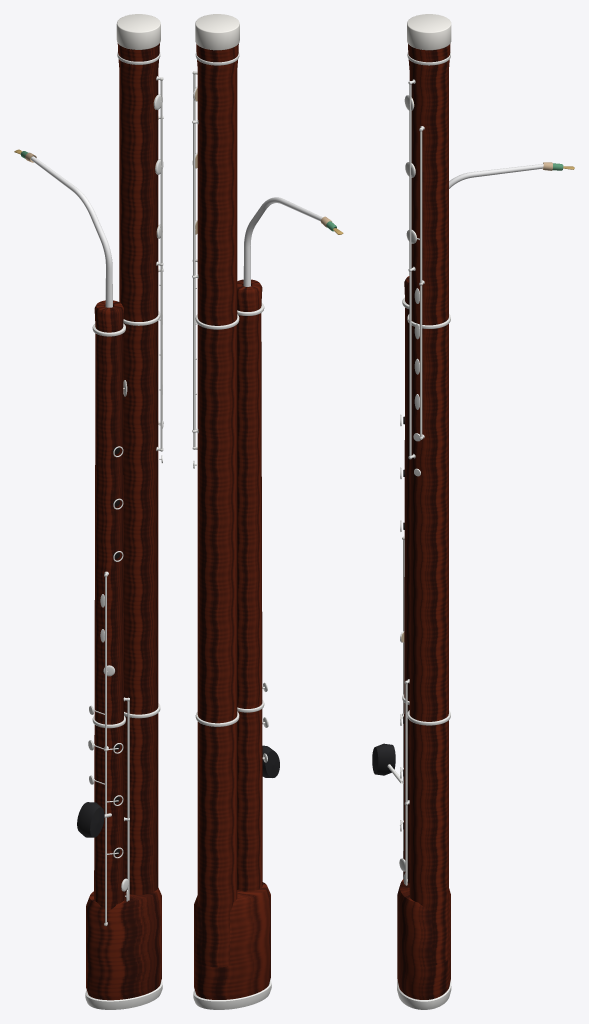
Rendered from bassoon.glb.
3 renders of one model, left to right at view 1: azimuth 30°, elevation 25°; view 2: azimuth 210°, elevation 25°; view 3: azimuth 270°, elevation 25°, orthographic.
Visible parts, largest first — view 1: Body; view 2: Body; view 3: Body.
Boxes of the visible parts, box(x1,y1,x2,y2) form: Body: box(14, 14, 163, 1009); Body: box(192, 14, 343, 1009); Body: box(372, 14, 574, 1009).
Size of the model in its own units: 0.1421 by 1.29 by 0.2417.
10 materials, 1 textured.
